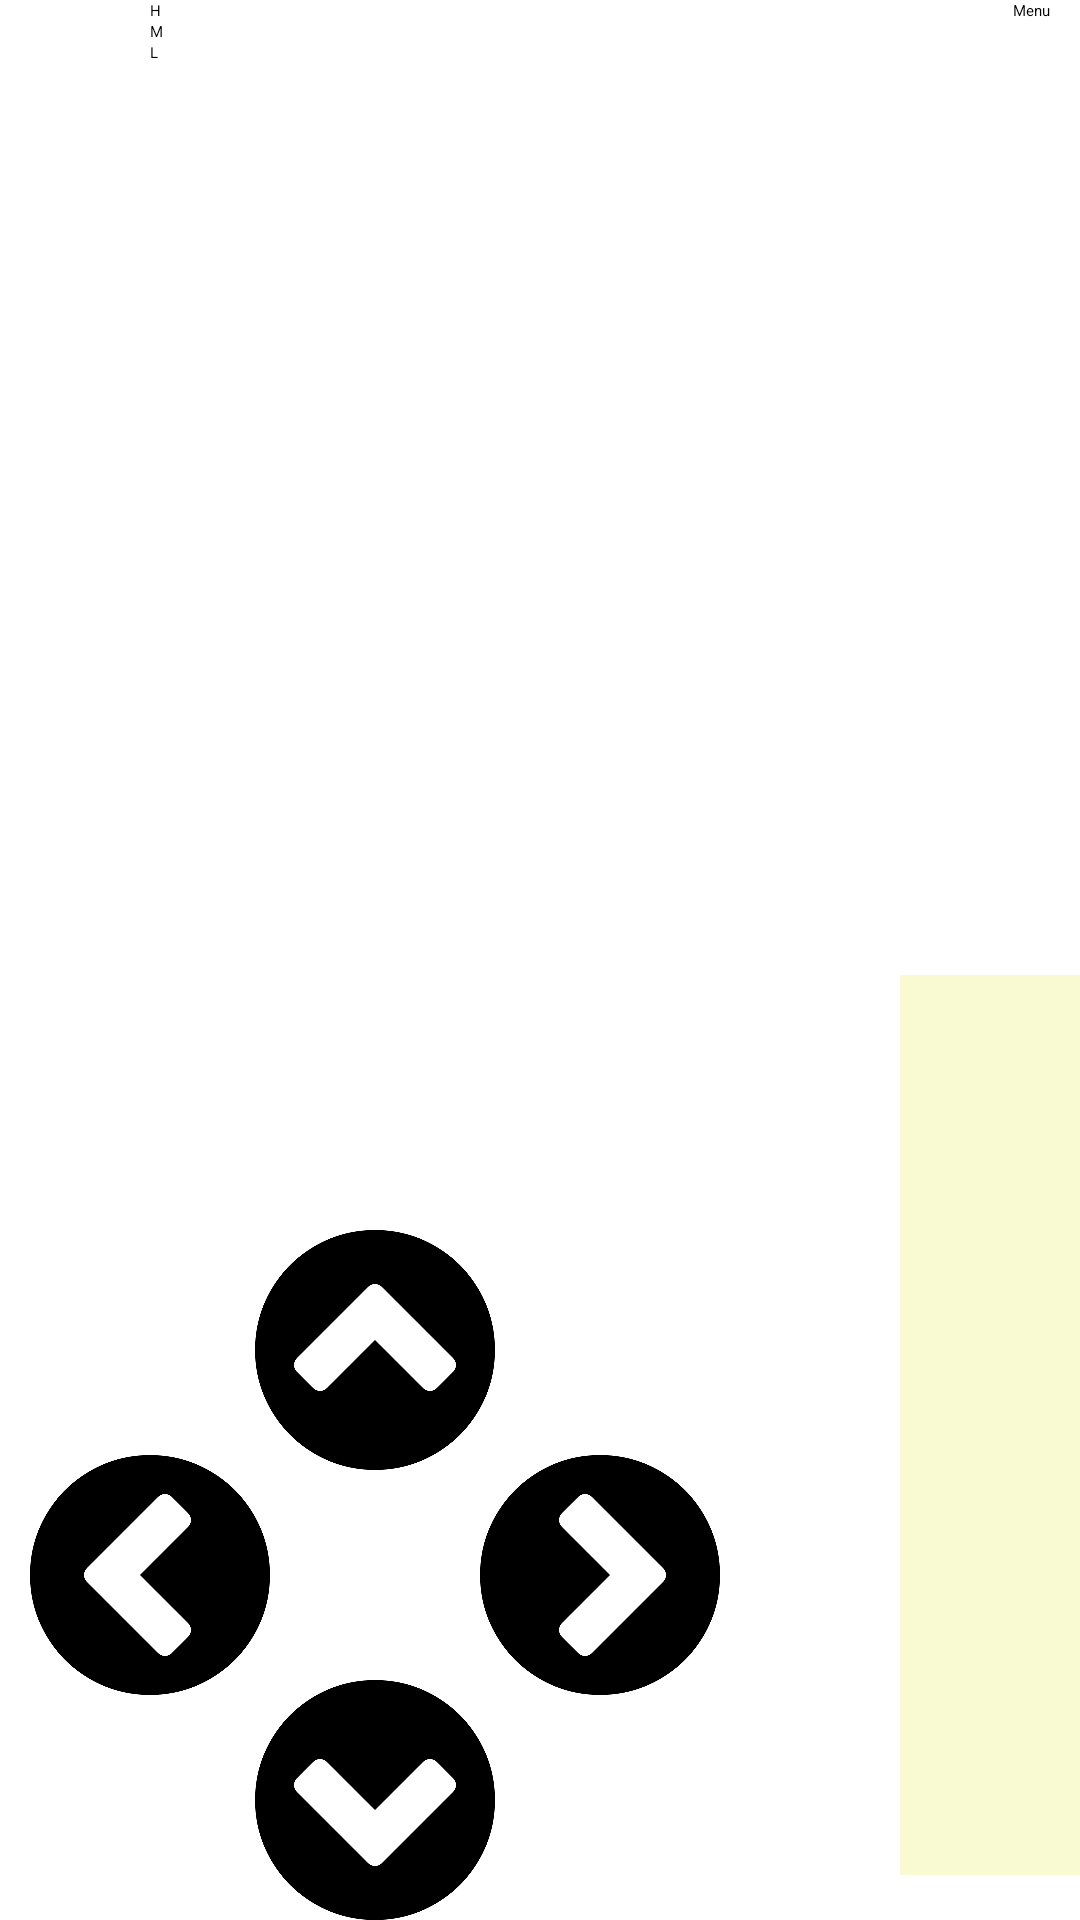

Screen size 1080px x 1920px. Icon name, then its center in pixels as point (x, y):
Down: point (375, 1800)
Left: point (150, 1575)
Right: point (600, 1575)
Up: point (375, 1350)
